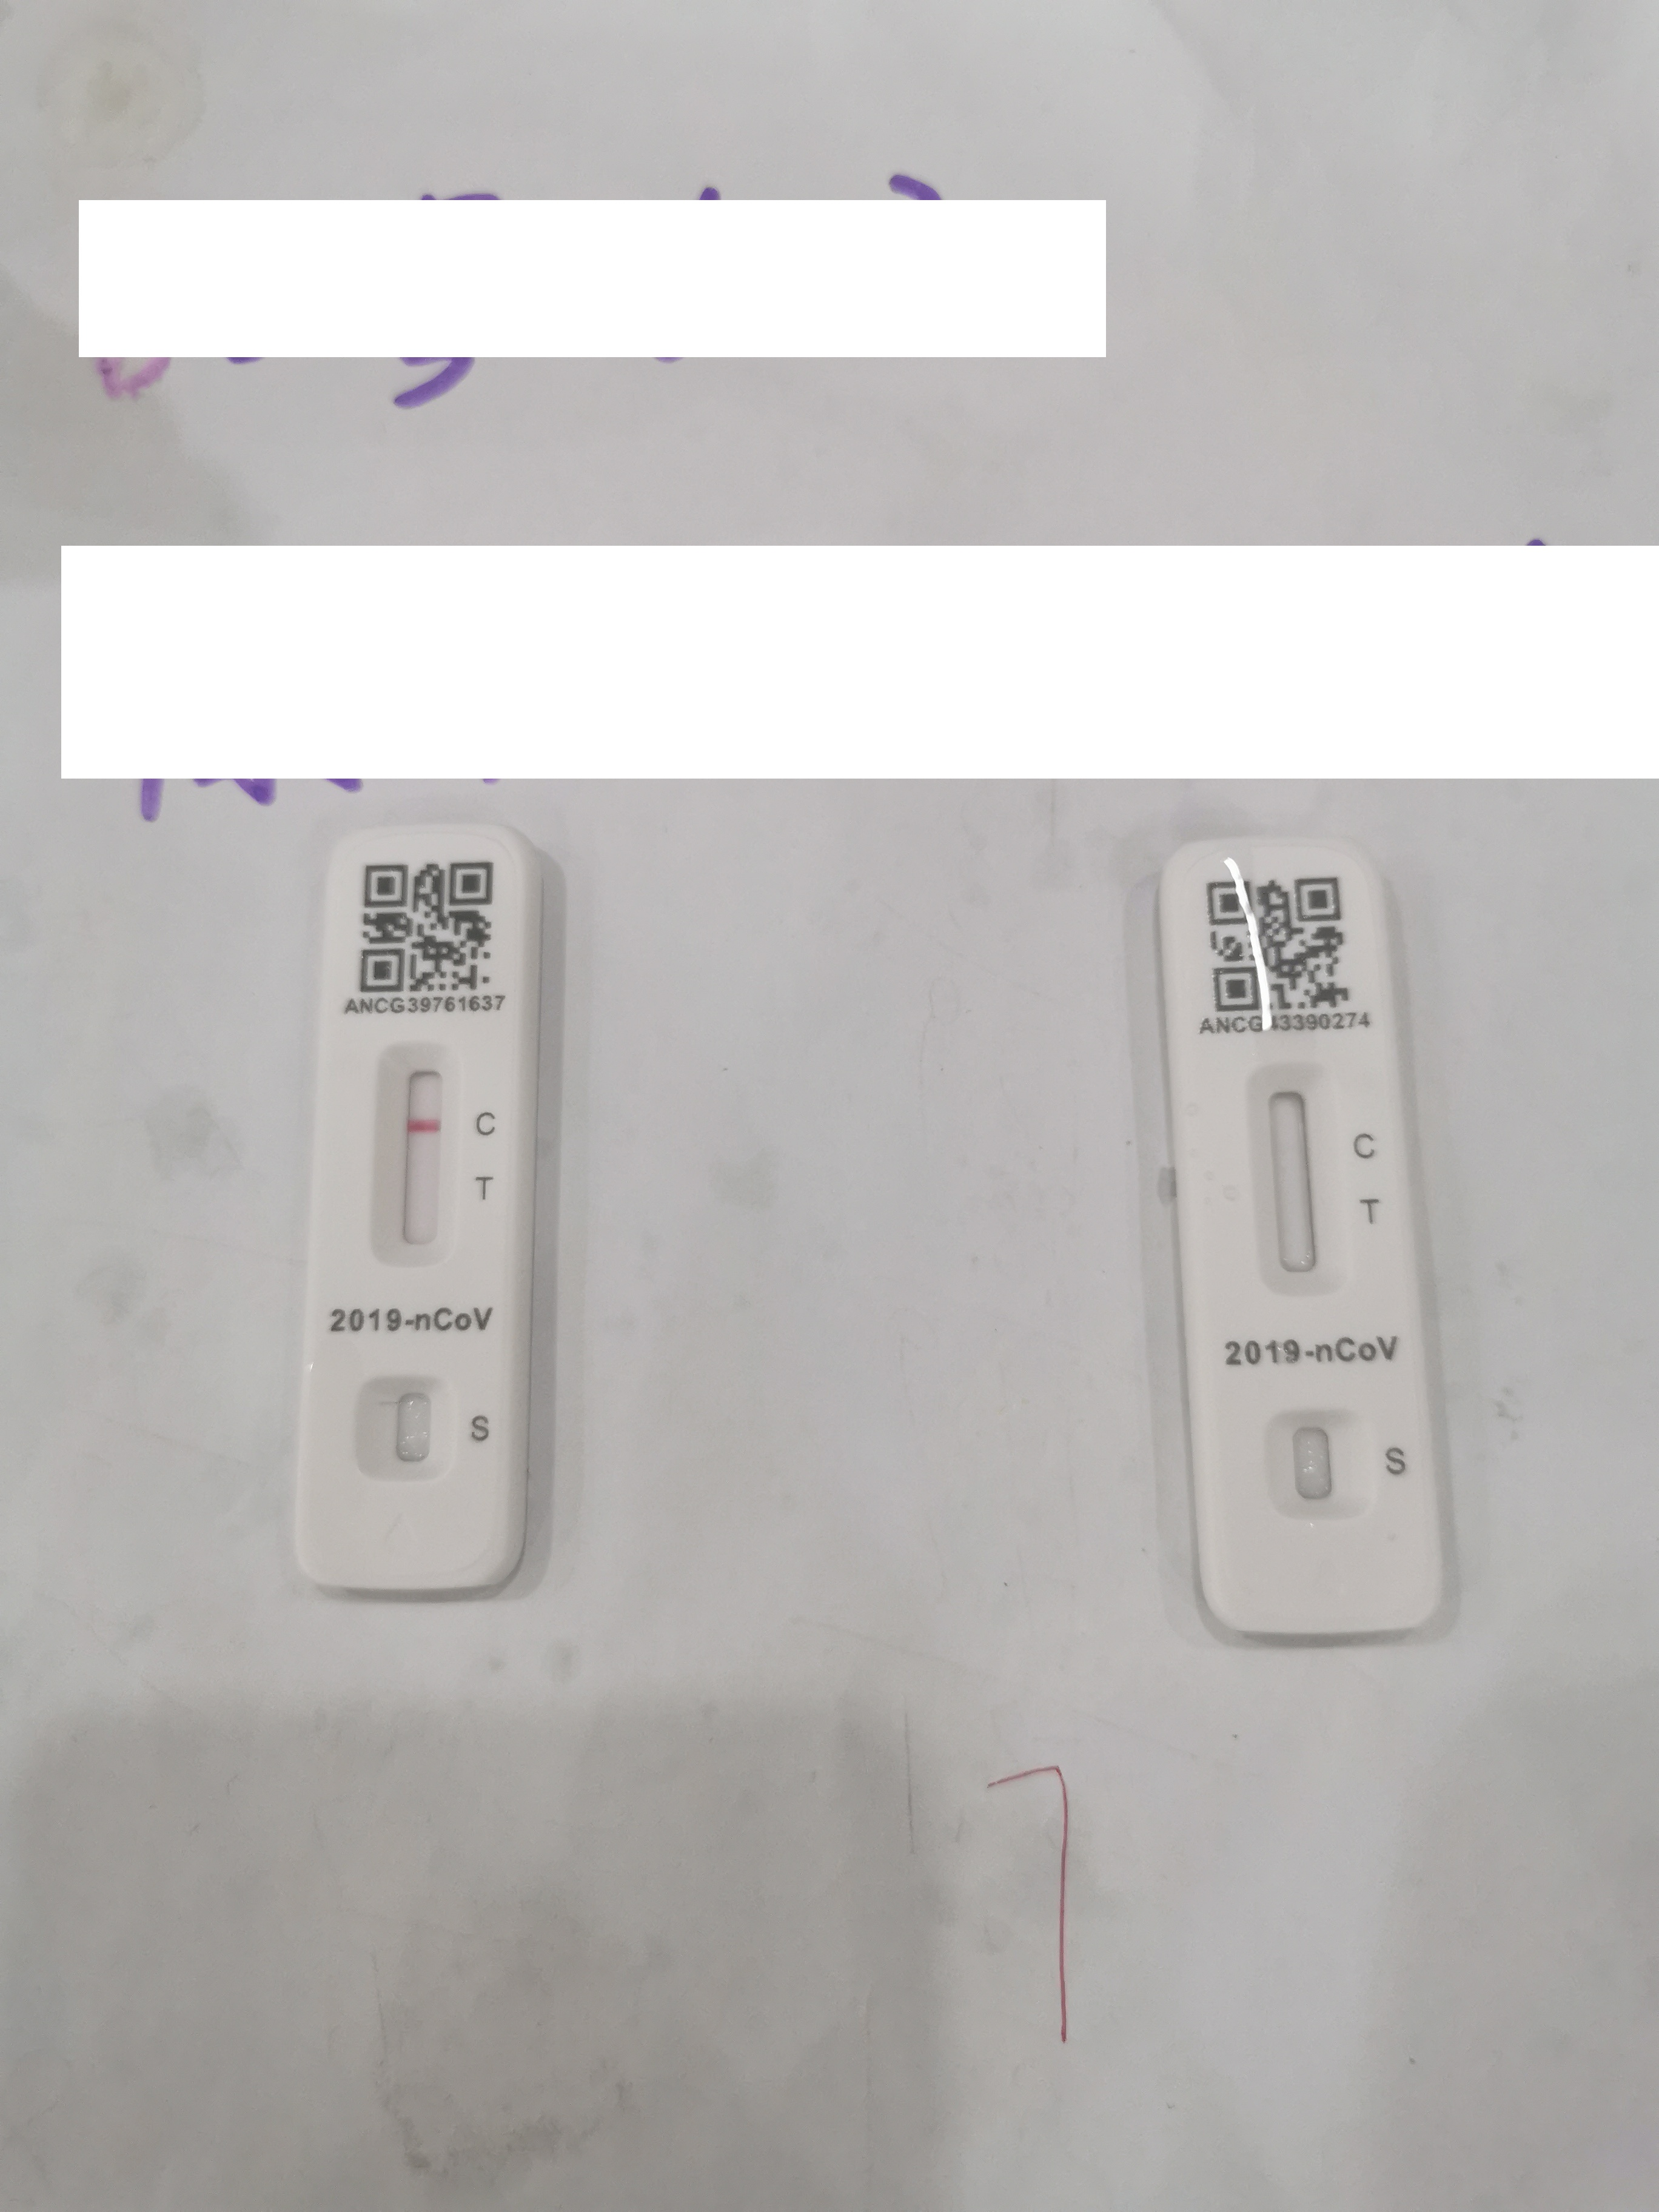negative: (371, 1045, 457, 1261), (1253, 1071, 1330, 1285)
